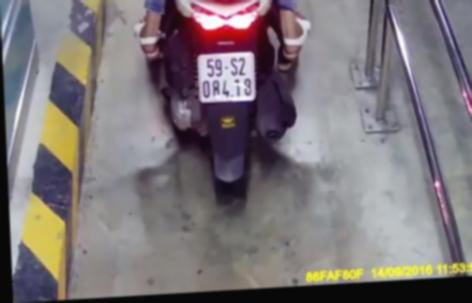License_Plate: (189, 49, 261, 109)
